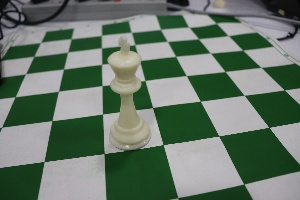white_king: (91, 29, 154, 154)
